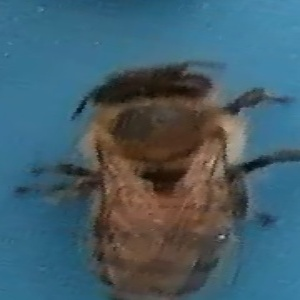bee: (18, 57, 298, 300)
